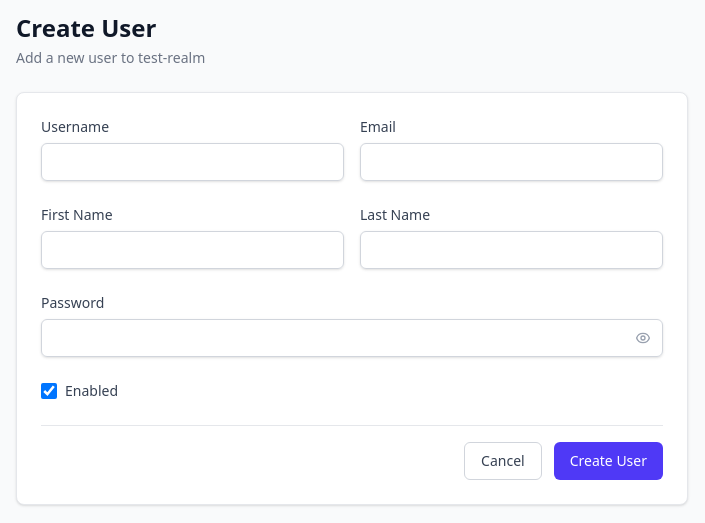
it: UserCreatePage › shows "Creating..." while the mutation is pending
Type "slowuser" into the field labelled "Username". click: (192, 162)
box: [41,143,344,181]
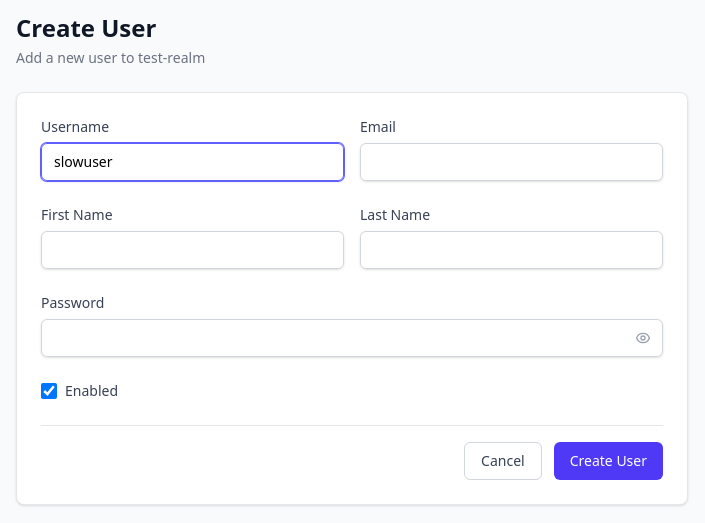
Type "pass" into the password field labelled "Password". click: (352, 338)
box: [41,319,663,357]
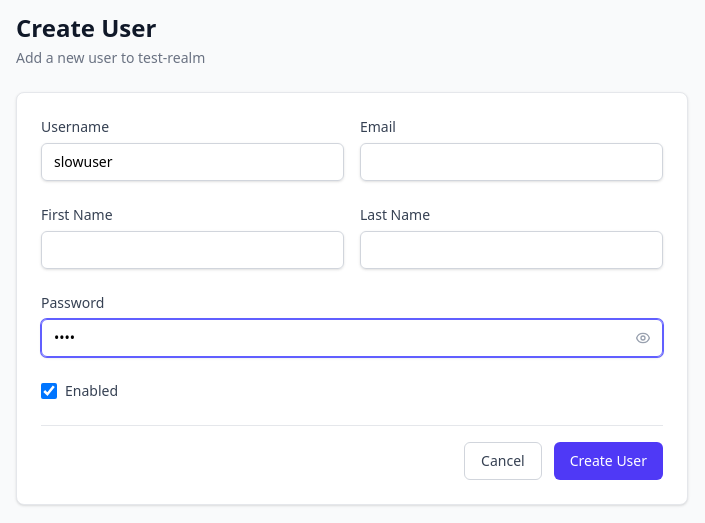
Click the button "Create User". click: (608, 461)
box: [554,442,663,480]
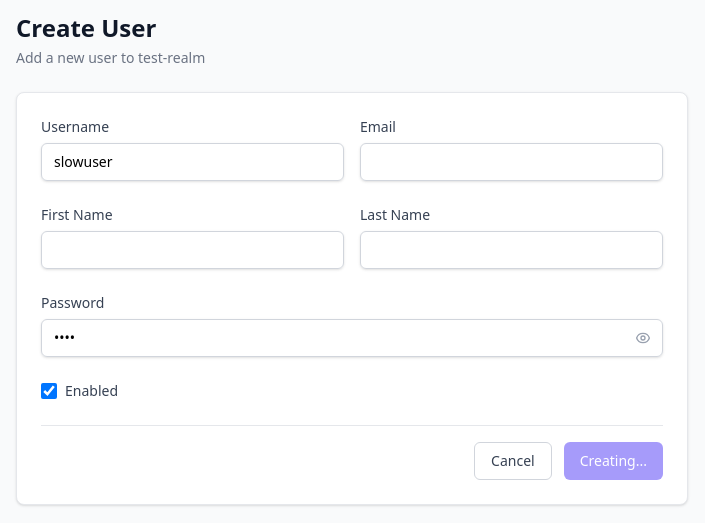
Expected: the button "Creating..." is shown, [564,442,663,480]
